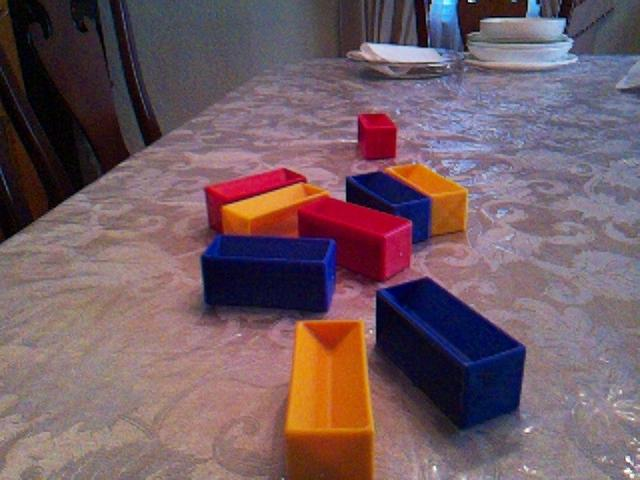blue: (373, 274, 528, 430), (199, 231, 338, 313), (345, 169, 433, 244)
red: (297, 195, 414, 282), (203, 165, 308, 232), (356, 111, 399, 161)
yellow: (283, 317, 377, 480), (384, 161, 469, 237), (221, 182, 332, 239)
